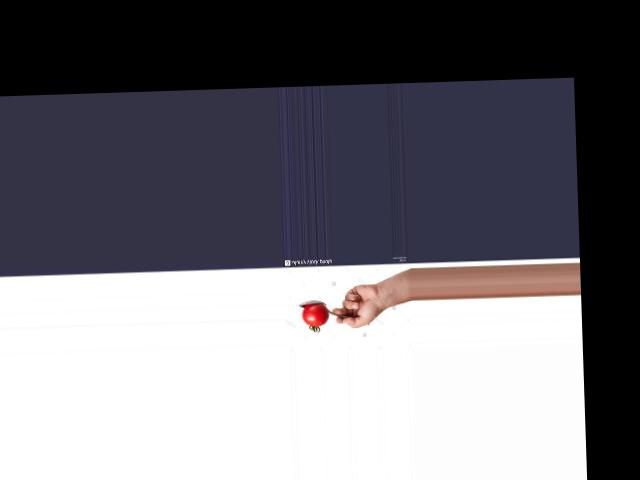tomato: (302, 303, 329, 327)
